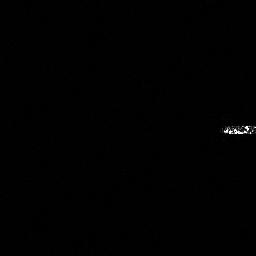ship: (216, 121, 256, 139)
